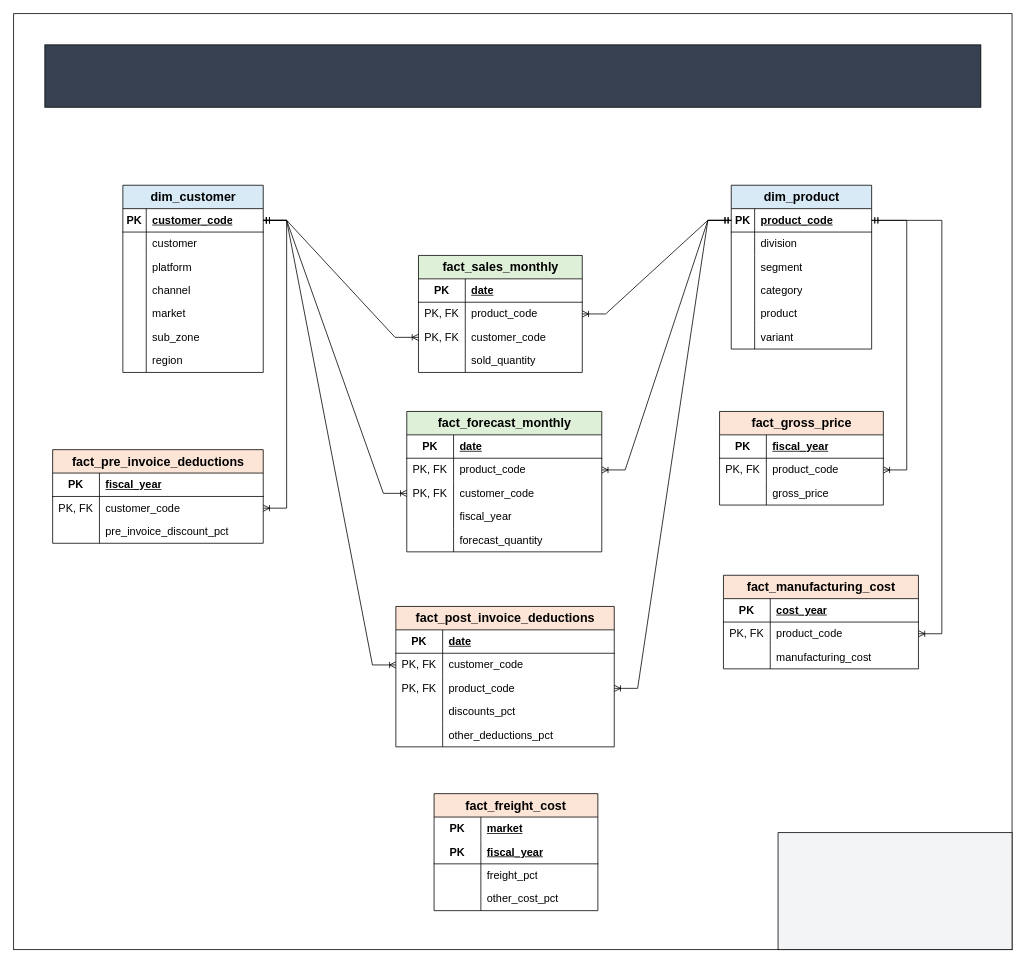
Some shapes in this 1026 by 964 pixel diagram are drawn without their labels. Here are the shapes that lost their labels. From the top down, the centre of each, then its label:
the point at 512,75: Entity Relationship Diagram (ERD)
the point at 894,891: Legend PK = Primary Key FK = Foreign Key || = One |< = Many (Crow's Foot)
